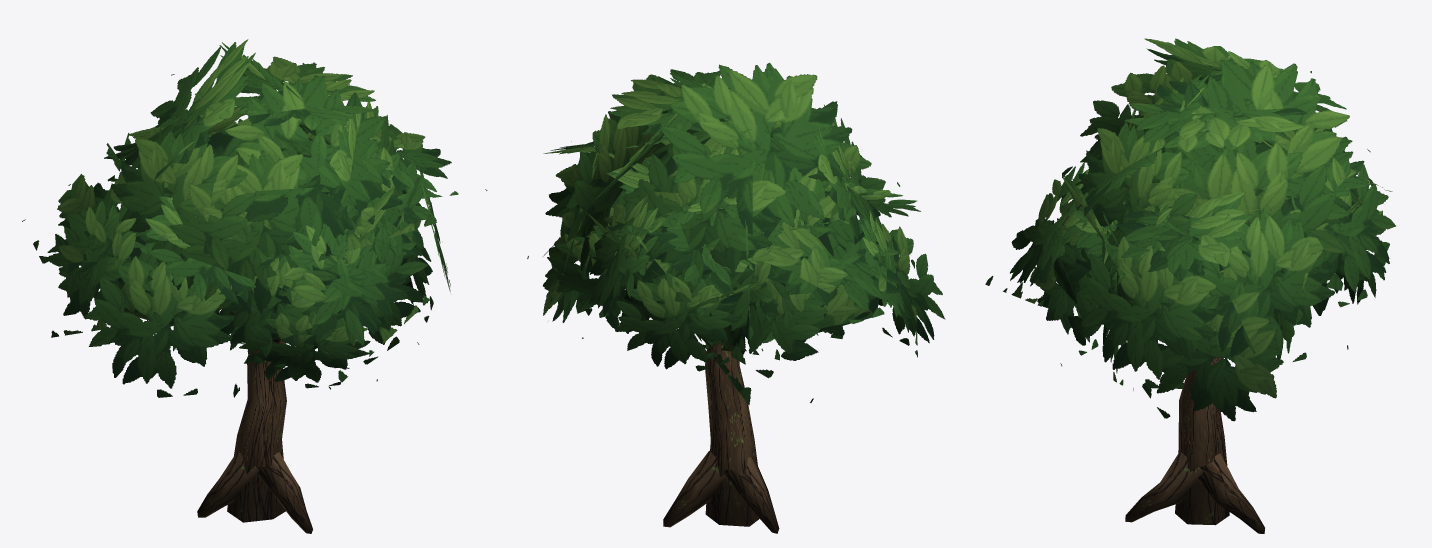
File: tree_oak_dark_lod1.glb
The picture shows the model from 3 angles, left to right: view 1: azimuth 30°, elevation 25°; view 2: azimuth 150°, elevation 25°; view 3: azimuth 270°, elevation 25°; orthographic projection. The views are drawn at different scales.
Parts seen in each view (by area): view 1: tree_oak_dark_lod1; view 2: tree_oak_dark_lod1; view 3: tree_oak_dark_lod1.
Part boxes in pixels (x1,y1,x2,y2): tree_oak_dark_lod1: (22,39,487,533); tree_oak_dark_lod1: (527,62,945,533); tree_oak_dark_lod1: (985,38,1395,533).
Size of the model in its own units: 4.68 by 5.3 by 4.18.
2 materials, 2 textured.
